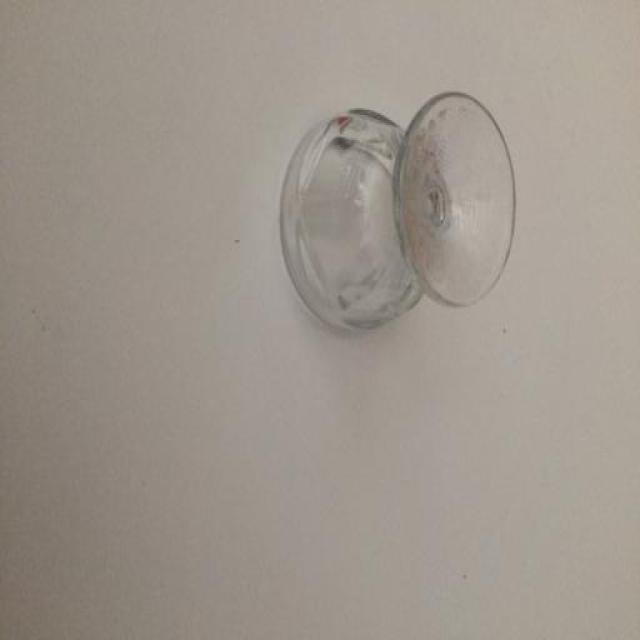glass: (275, 92, 518, 337)
